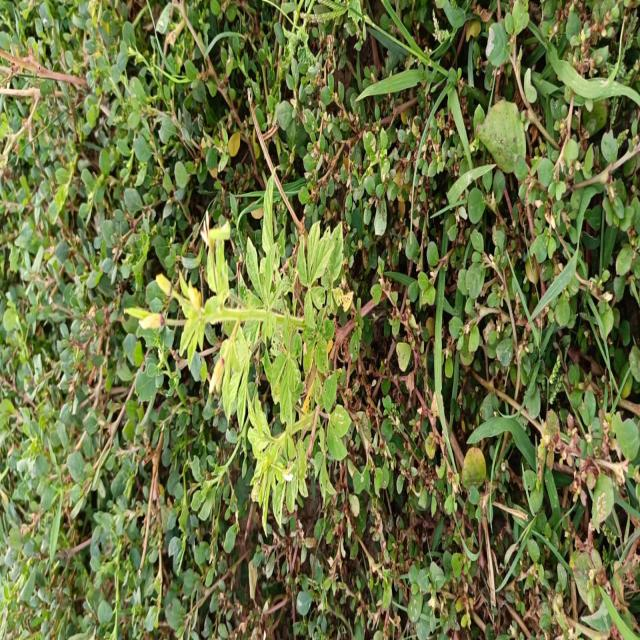plant: (124, 174, 353, 526)
